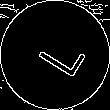L_NW: (25, 28, 85, 82)
